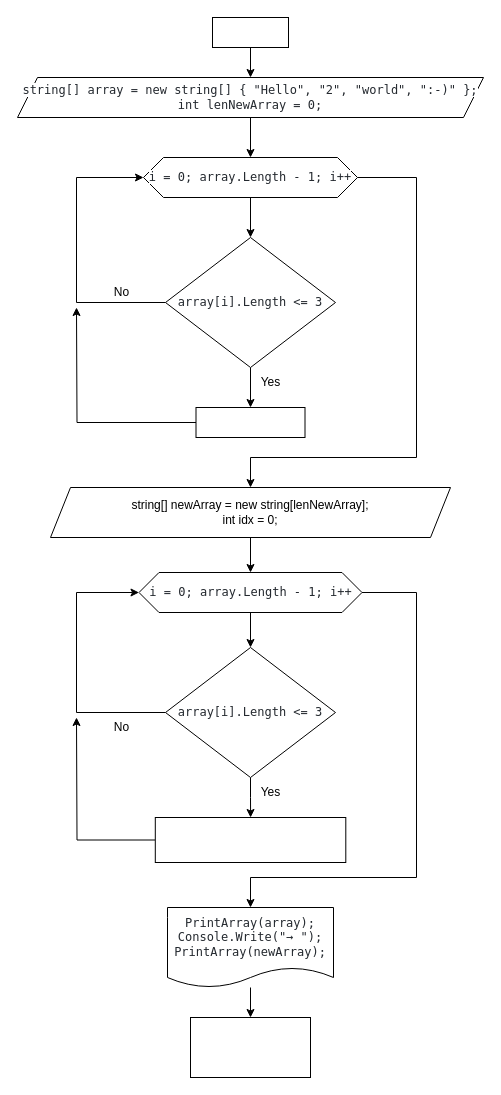
Some shapes in this 501 by 1095 pixel diagram are drawn without their labels. The shapes that lost their labels are listed below. From the top down, each one's box as (x1, y1, x2, y2) in pixels, then its label:
(212, 16, 288, 48): Start
(195, 406, 305, 438): lenNewArray++
(154, 816, 346, 862): newArray[idx] = array[i]; idx++;
(190, 1016, 310, 1078): End
